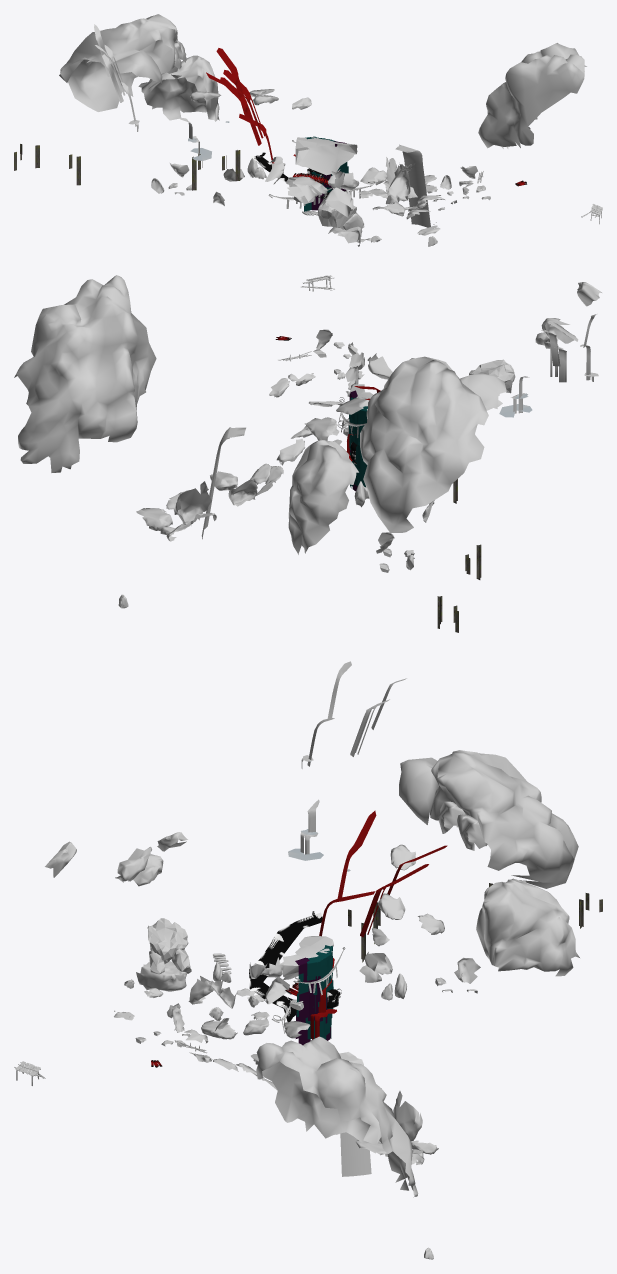
The picture shows the model from 3 angles, top to bottom: view 1: azimuth 30°, elevation 25°; view 2: azimuth 150°, elevation 25°; view 3: azimuth 270°, elevation 25°; orthographic projection. The views are drawn at different scales.
Visible parts, largest first — view 1: m01a00takiiwa_1_Group_0_Sub_6__B_iwa01_mos1, m01a00takiiwa_1_Group_0_Sub_2__B_iwa01_mos_1, m01a00takiiwa2_1_Group_0_Sub_1__B_iwa01_mos_1, m01a00nagare_1_Group_0_Sub_2__A_nagare01_, m01a00kabe17_1_Group_0_Sub_1__B_iwa01_mos_, m01a00mizu02_1_Group_0_Sub_1__A_nagare01_water_, m01a00takiiwa_1_Group_0_Sub_4__B_iwa19_mos_01, m01a00etc_1_Group_0_Sub_1__N_tuta06, m01a00takiiwa_1_Group_0_Sub_1__B_iwa19_wet, m01a00takiiwa_1_Group_0_Sub_5__B_iwa01_mos_2, m01a00kabe17_1_Group_0_Sub_2__N_tuta02_01, m01a00mizu04_1_Group_0_Sub_1__A_suimen02_ (+1 smaller); view 2: m01a00takiiwa_1_Group_0_Sub_6__B_iwa01_mos1, m01a00takiiwa_1_Group_0_Sub_1__B_iwa19_wet, m01a00takiiwa2_1_Group_0_Sub_1__B_iwa01_mos_1, m01a00takiiwa_1_Group_0_Sub_2__B_iwa01_mos_1, m01a00nagare_1_Group_0_Sub_2__A_nagare01_, m01a00takiiwa_1_Group_0_Sub_5__B_iwa01_mos_2, m01a00kabe17_1_Group_0_Sub_2__N_tuta02_01, m01a00takiiwa_1_Group_0_Sub_4__B_iwa19_mos_01, m01a00etc_1_Group_0_Sub_1__N_tuta06; view 3: m01a00takiiwa_1_Group_0_Sub_6__B_iwa01_mos1, m01a00takiiwa_1_Group_0_Sub_2__B_iwa01_mos_1, m01a00takiiwa2_1_Group_0_Sub_1__B_iwa01_mos_1, m01a00nagare_1_Group_0_Sub_2__A_nagare01_, m01a00takiiwa_1_Group_0_Sub_4__B_iwa19_mos_01, m01a00kabe17_1_Group_0_Sub_2__N_tuta02_01, m01a00mizu02_1_Group_0_Sub_1__A_nagare01_water_, m01a00mizu04_1_Group_0_Sub_1__A_suimen02_, m01a00takiiwa_1_Group_0_Sub_1__B_iwa19_wet, m01a00takiiwa_1_Group_0_Sub_5__B_iwa01_mos_2, m01a00kabe17_1_Group_0_Sub_1__B_iwa01_mos_, m01a00isi_1_Group_0_Sub_1__B_iwa19_mos_02.
Part boxes in pixels (bbox=[...]): m01a00takiiwa_1_Group_0_Sub_6__B_iwa01_mos1: bbox=[59, 14, 586, 148]; m01a00takiiwa_1_Group_0_Sub_2__B_iwa01_mos_1: bbox=[265, 156, 473, 246]; m01a00takiiwa2_1_Group_0_Sub_1__B_iwa01_mos_1: bbox=[151, 163, 490, 209]; m01a00nagare_1_Group_0_Sub_2__A_nagare01_: bbox=[94, 24, 430, 227]; m01a00kabe17_1_Group_0_Sub_1__B_iwa01_mos_: bbox=[295, 137, 357, 175]; m01a00mizu02_1_Group_0_Sub_1__A_nagare01_water_: bbox=[206, 48, 330, 183]; m01a00takiiwa_1_Group_0_Sub_4__B_iwa19_mos_01: bbox=[318, 199, 363, 246]; m01a00etc_1_Group_0_Sub_1__N_tuta06: bbox=[14, 144, 240, 190]; m01a00takiiwa_1_Group_0_Sub_1__B_iwa19_wet: bbox=[383, 157, 441, 213]; m01a00takiiwa_1_Group_0_Sub_5__B_iwa01_mos_2: bbox=[190, 89, 311, 109]; m01a00kabe17_1_Group_0_Sub_2__N_tuta02_01: bbox=[304, 136, 348, 211]; m01a00mizu04_1_Group_0_Sub_1__A_suimen02_: bbox=[251, 152, 357, 198]; m01a00takiiwa_1_Group_0_Sub_6__B_iwa01_mos1: bbox=[14, 275, 506, 554]; m01a00takiiwa_1_Group_0_Sub_1__B_iwa19_wet: bbox=[136, 439, 341, 541]; m01a00takiiwa2_1_Group_0_Sub_1__B_iwa01_mos_1: bbox=[313, 329, 434, 572]; m01a00takiiwa_1_Group_0_Sub_2__B_iwa01_mos_1: bbox=[118, 282, 601, 608]; m01a00nagare_1_Group_0_Sub_2__A_nagare01_: bbox=[201, 314, 598, 539]; m01a00takiiwa_1_Group_0_Sub_5__B_iwa01_mos_2: bbox=[306, 397, 369, 440]; m01a00kabe17_1_Group_0_Sub_2__N_tuta02_01: bbox=[349, 390, 367, 491]; m01a00takiiwa_1_Group_0_Sub_4__B_iwa19_mos_01: bbox=[469, 359, 515, 410]; m01a00etc_1_Group_0_Sub_1__N_tuta06: bbox=[437, 479, 481, 632]; m01a00takiiwa_1_Group_0_Sub_6__B_iwa01_mos1: bbox=[256, 750, 579, 1197]; m01a00takiiwa_1_Group_0_Sub_2__B_iwa01_mos_1: bbox=[45, 832, 433, 1259]; m01a00takiiwa2_1_Group_0_Sub_1__B_iwa01_mos_1: bbox=[135, 952, 480, 1046]; m01a00nagare_1_Group_0_Sub_2__A_nagare01_: bbox=[300, 661, 406, 1176]; m01a00takiiwa_1_Group_0_Sub_4__B_iwa19_mos_01: bbox=[136, 918, 191, 991]; m01a00kabe17_1_Group_0_Sub_2__N_tuta02_01: bbox=[295, 945, 333, 1045]; m01a00mizu02_1_Group_0_Sub_1__A_nagare01_water_: bbox=[310, 810, 447, 1039]; m01a00mizu04_1_Group_0_Sub_1__A_suimen02_: bbox=[249, 911, 340, 1022]; m01a00takiiwa_1_Group_0_Sub_1__B_iwa19_wet: bbox=[251, 1054, 438, 1164]; m01a00takiiwa_1_Group_0_Sub_5__B_iwa01_mos_2: bbox=[372, 844, 444, 946]; m01a00kabe17_1_Group_0_Sub_1__B_iwa01_mos_: bbox=[283, 936, 333, 979]; m01a00isi_1_Group_0_Sub_1__B_iwa19_mos_02: bbox=[210, 962, 406, 1021].
Bounding box in the file's own units: 16026 × 9978 × 13978.
